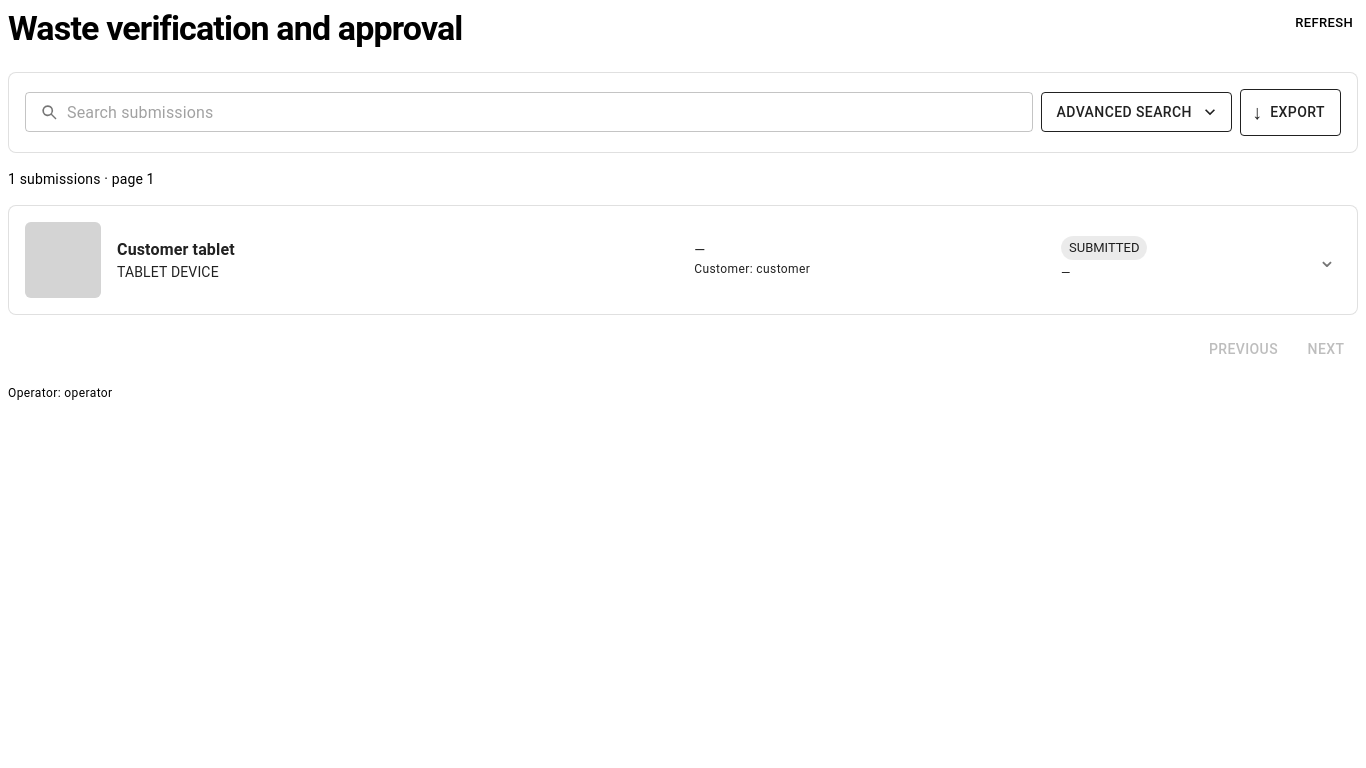
Test case: explicit review assignment › retains unsaved edits until they are discarded before release
Click the button with aria-label "Open details: Customer tablet" at (63, 260), box [9,206,1305,314]
(page scrolled)
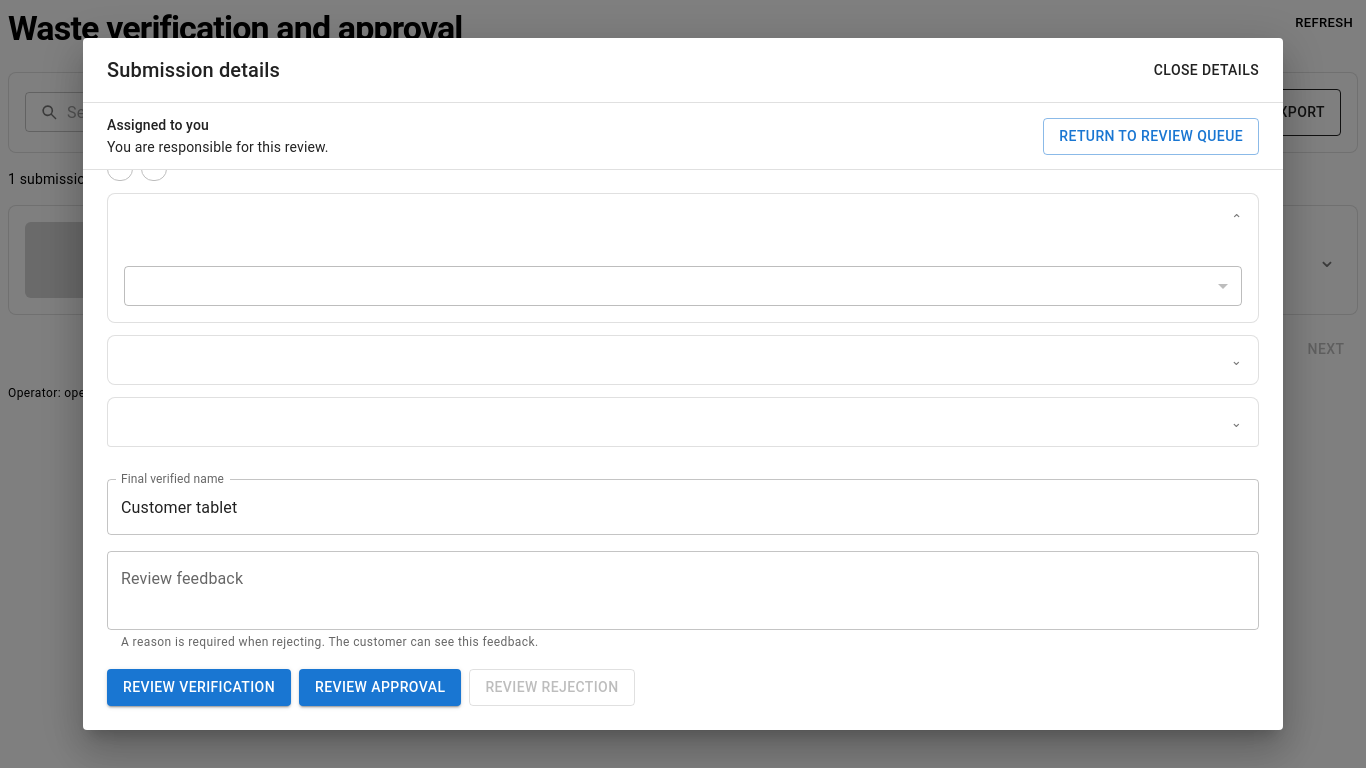
Type " corrected" into the field labelled "Final verified name" at (683, 507), box [107,479,1259,535]
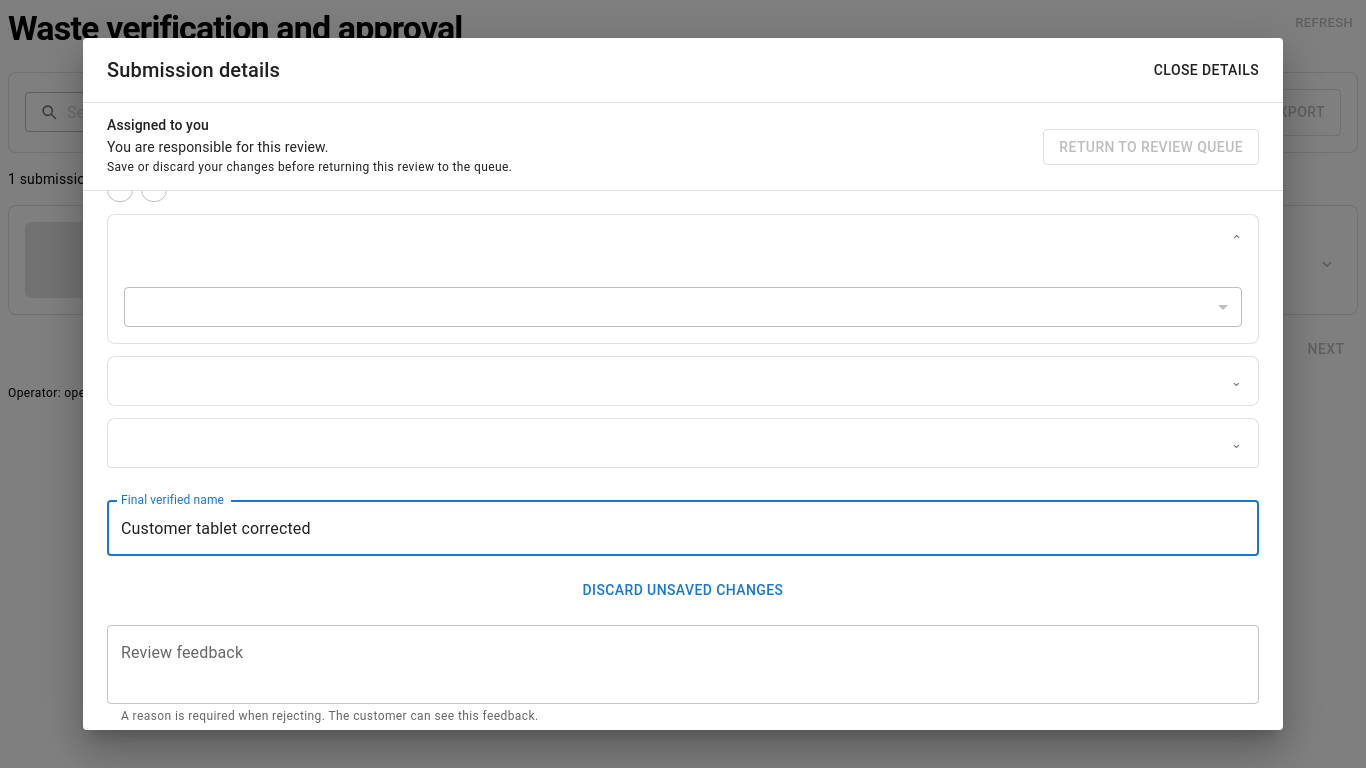
Type "Unsaved feedback" into the text box labelled "Review feedback" at (683, 664), box [121,641,1245,687]
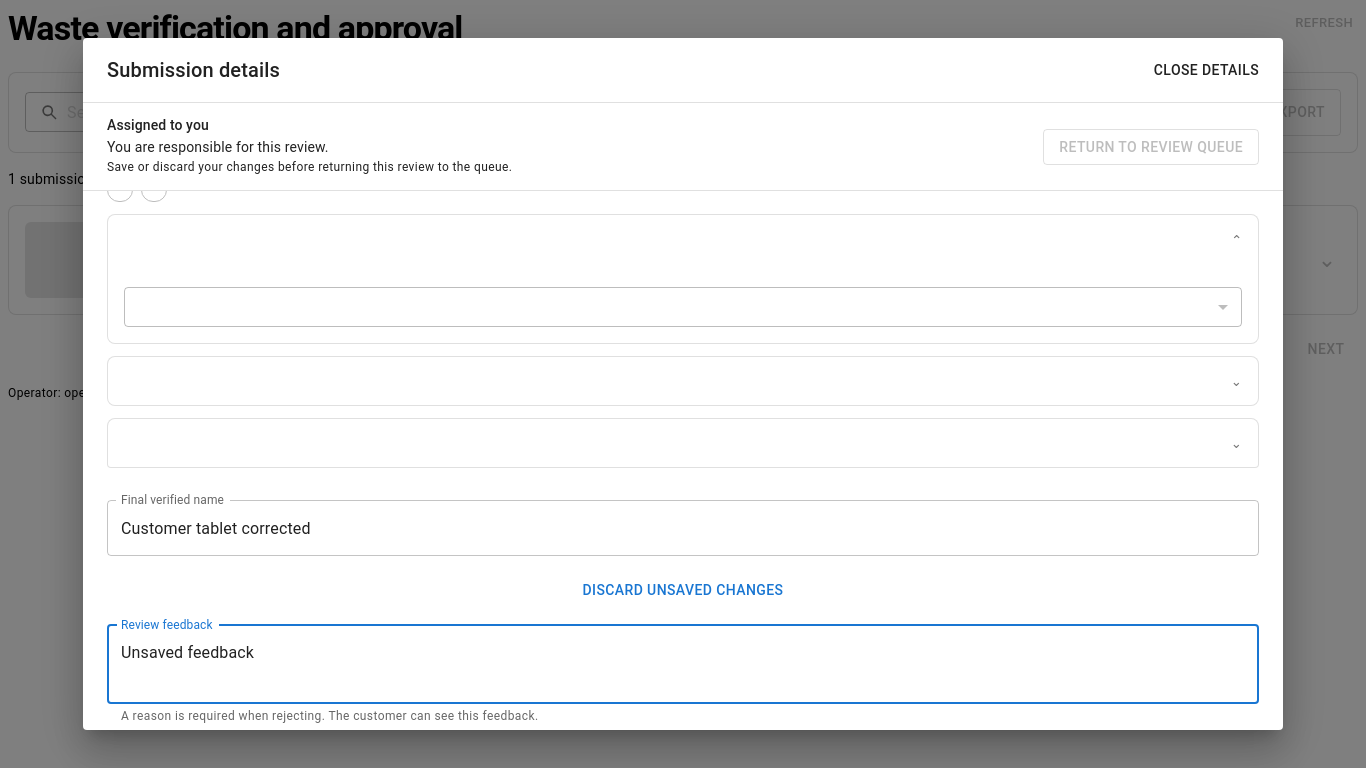
Check: the button "Return to review queue" is disabled, box [1043,129,1259,165]
Check: the text "Save or discard your changes before returning this review to the queue." is shown, box [107,160,512,174]
Click the button "Discard unsaved changes" at (683, 591), box [107,572,1259,609]
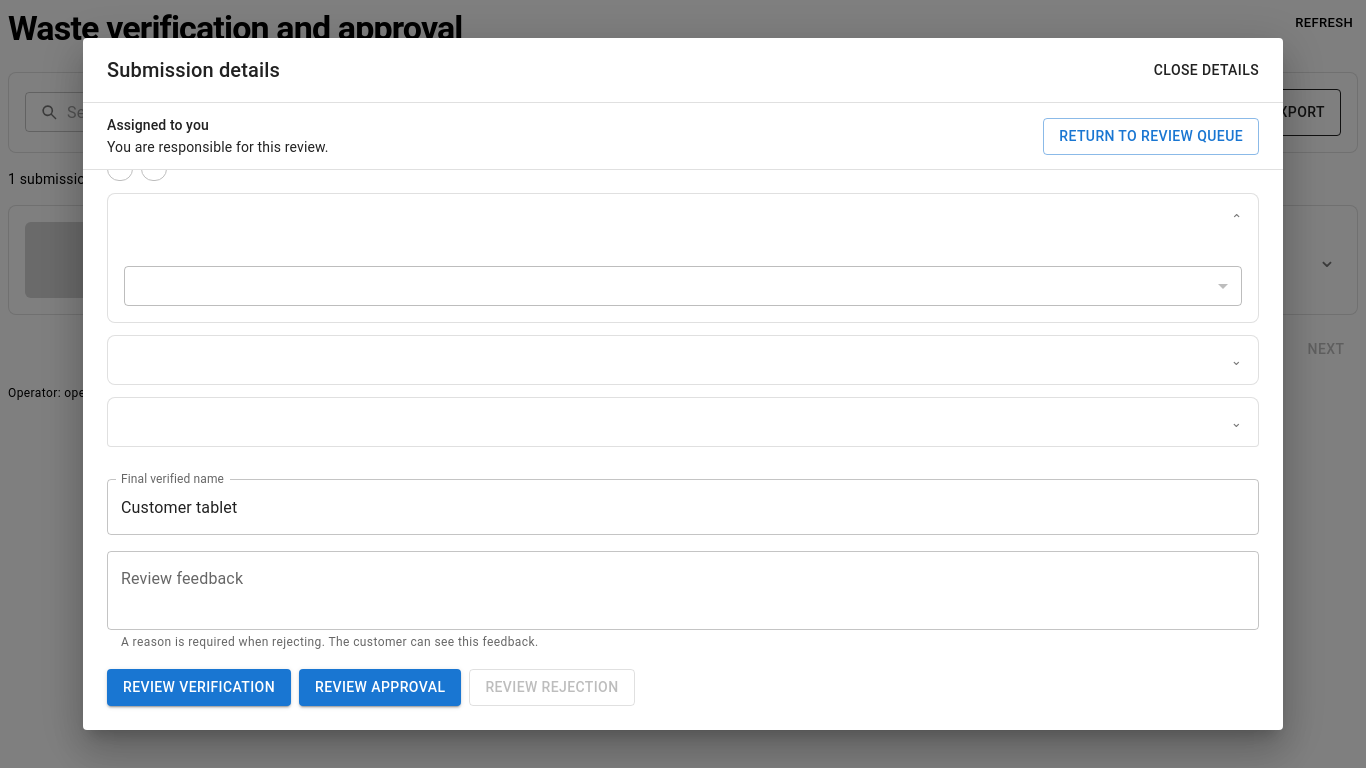
Check: the field labelled "Final verified name" holds "Customer tablet", box [107,479,1259,535]
Check: the text box labelled "Review feedback" is empty, box [121,568,1245,614]
Check: the button "Return to review queue" is enabled, box [1043,118,1259,155]
